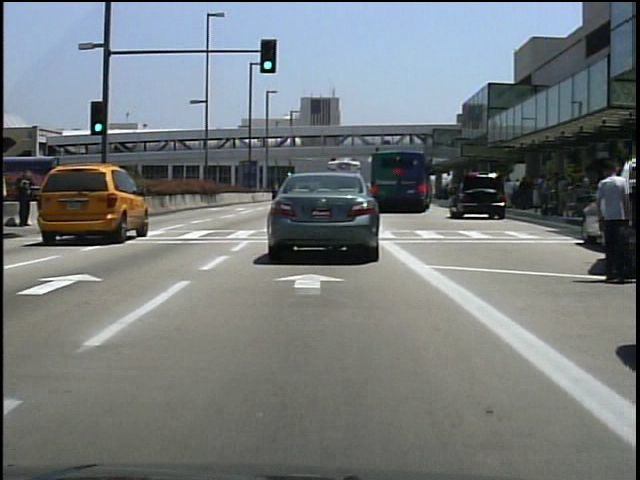person: (590, 154, 628, 289), (15, 165, 39, 229)
